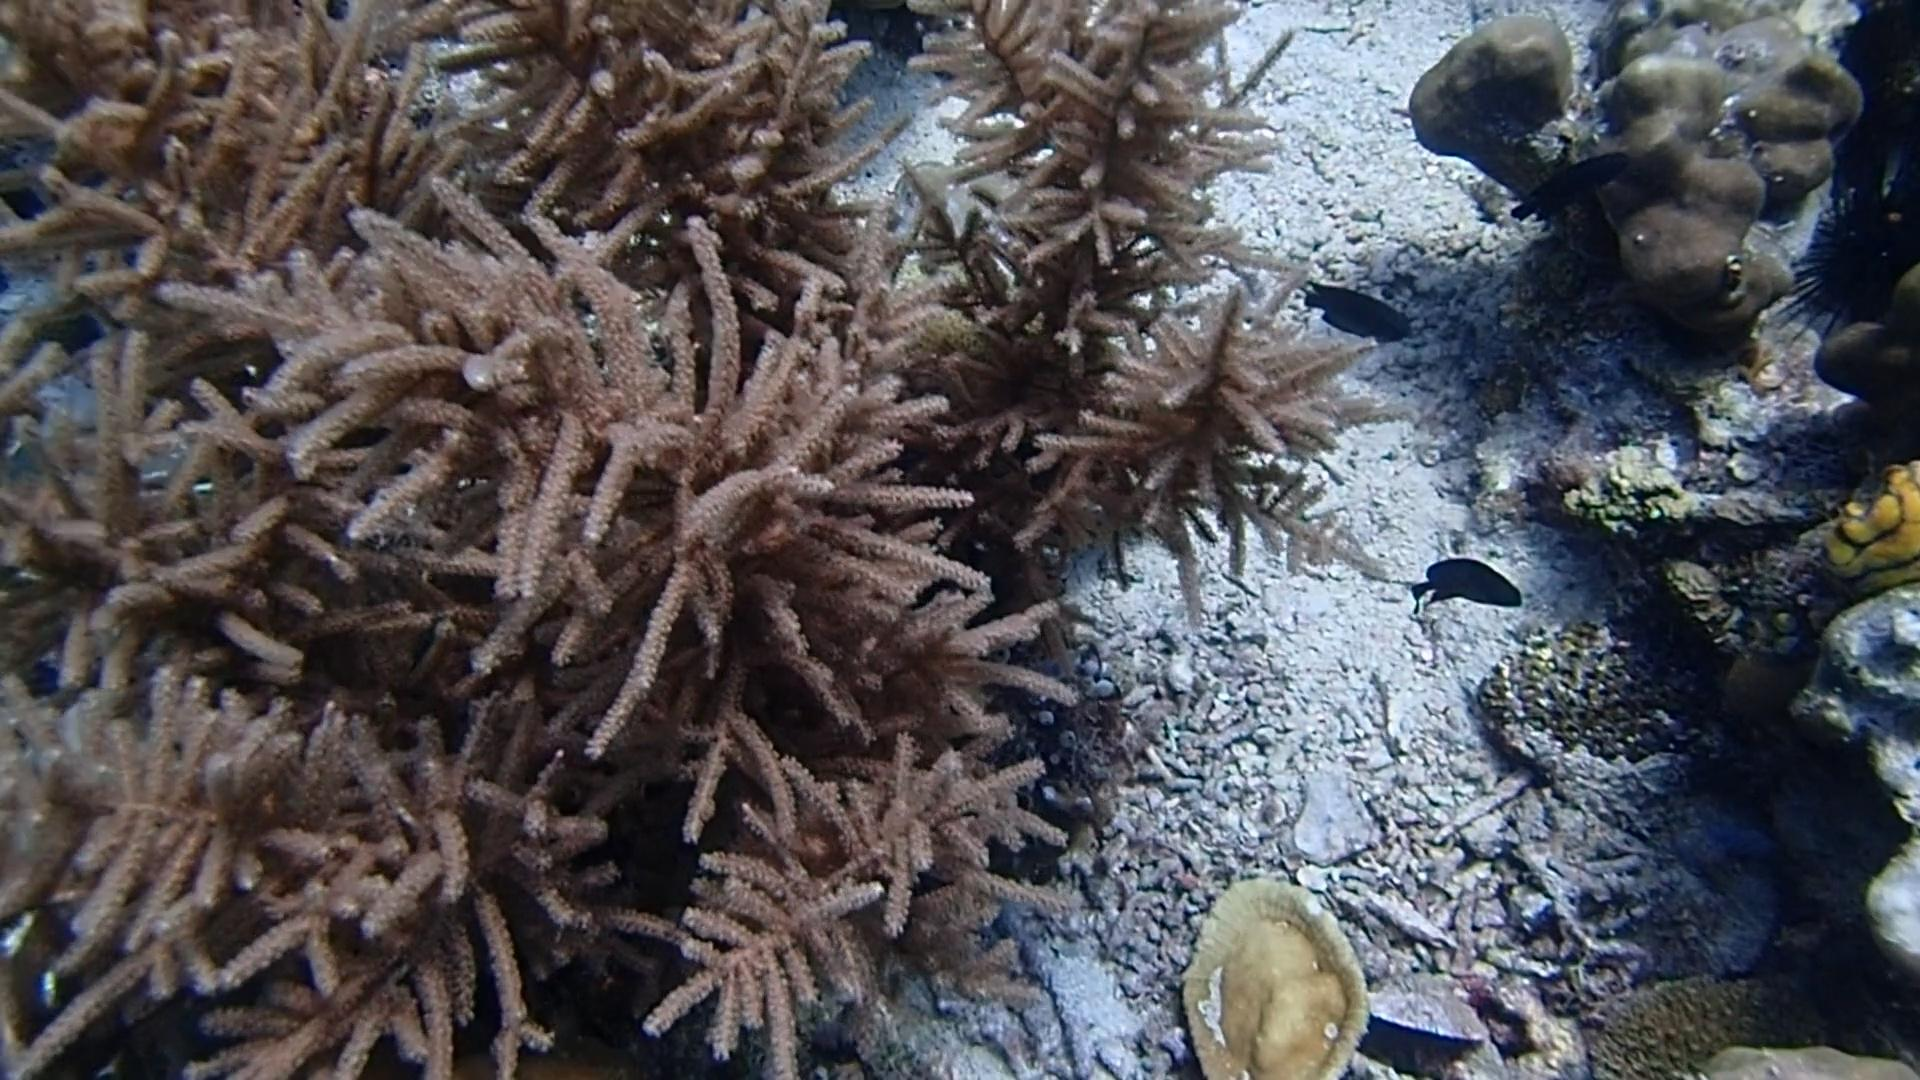Dark Fish: (1288, 261, 1423, 360), (1506, 146, 1636, 227), (1411, 543, 1526, 625)
